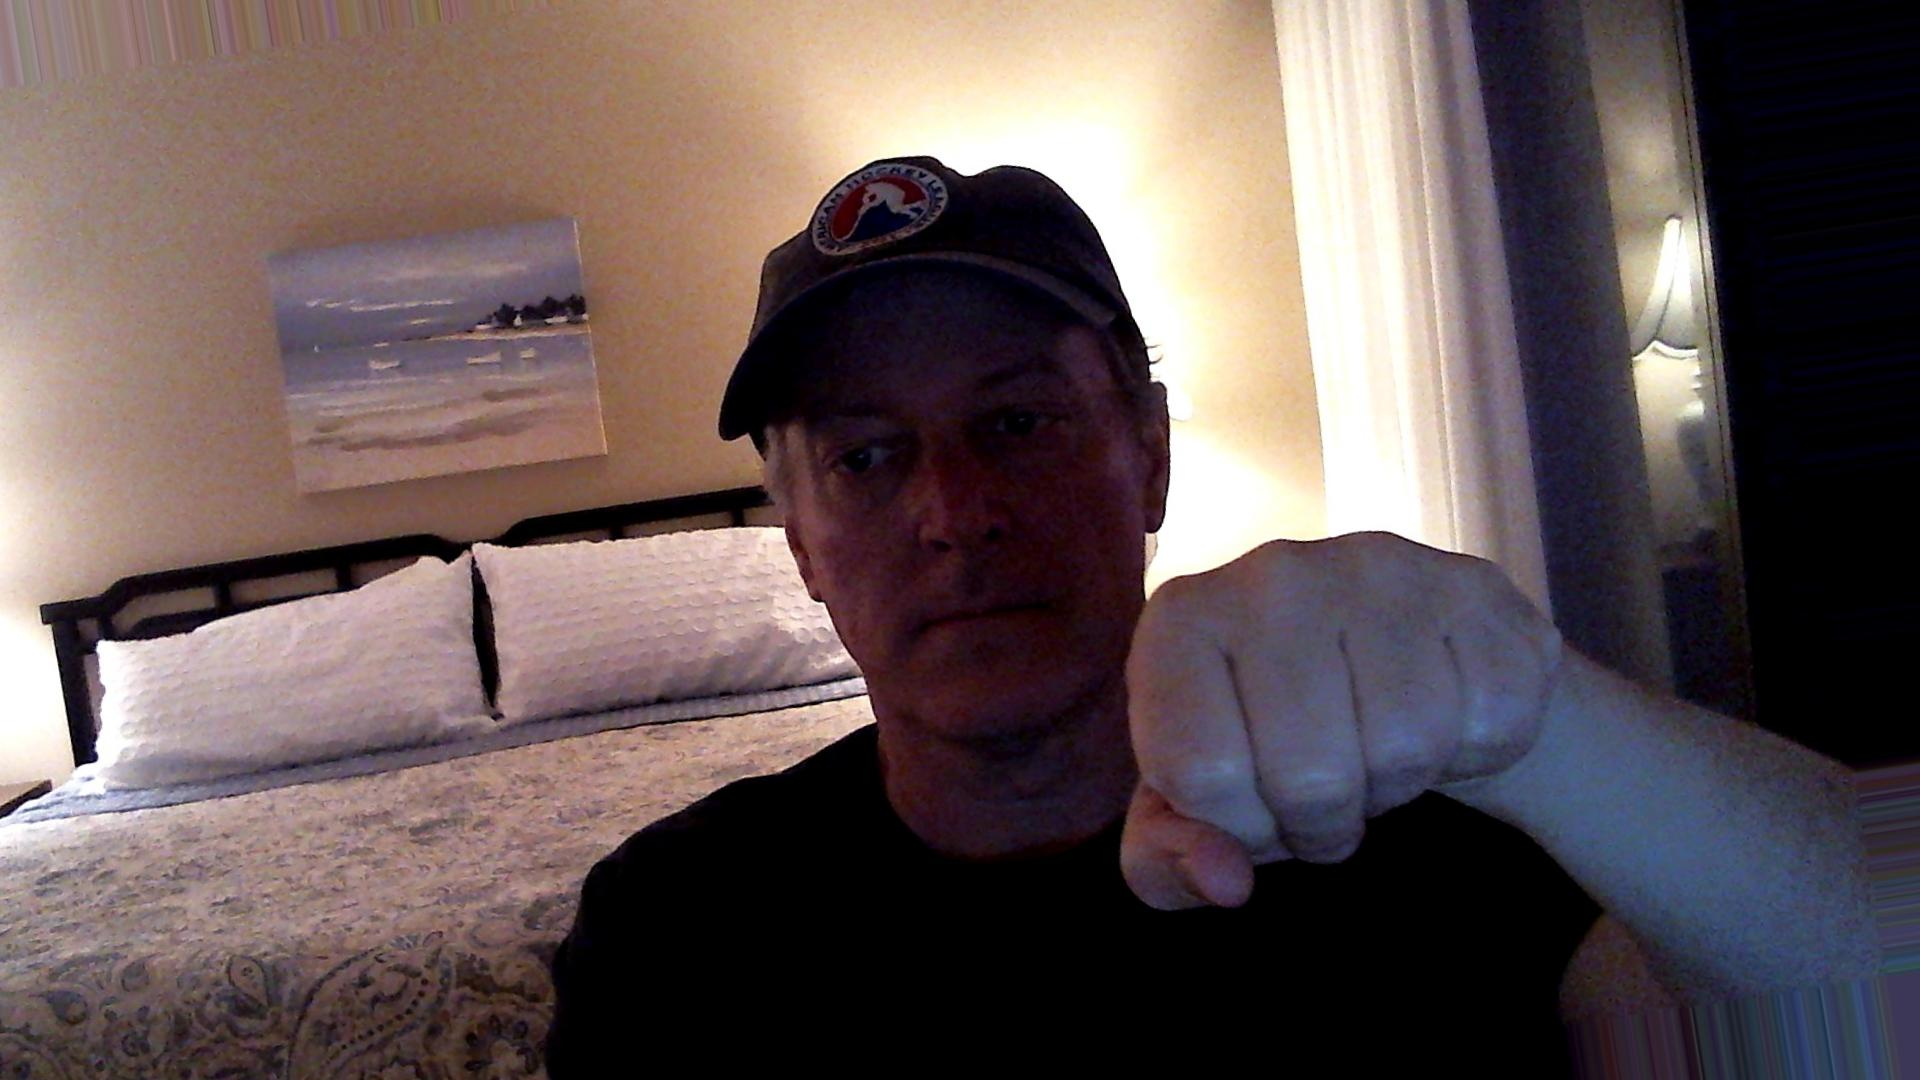Yes: (1097, 520, 1588, 930)
